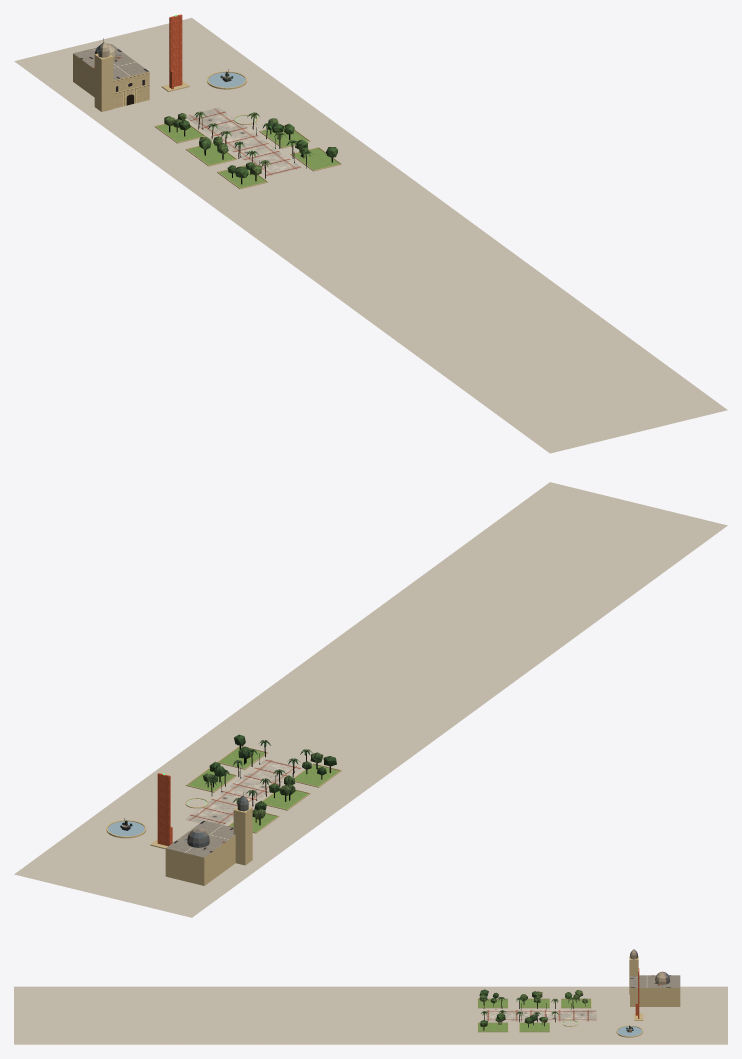
The model's file is lugar-monterrey.glb.
3 views of the same model, one above another, from view 1: azimuth 30°, elevation 25°; view 2: azimuth 150°, elevation 25°; view 3: azimuth 270°, elevation 25° (orthographic). The views are drawn at different scales.
Parts seen in each view (by area): view 1: luzG-cerca, luzS-pista, luzE, vert-cerca; view 2: luzG-cerca, luzS-pista, luzE, vert-cerca; view 3: luzG-cerca, luzS-pista, luzE, vert-cerca, planoE.
Part boxes in pixels (bbox=[...]): luzG-cerca: bbox=[14, 18, 727, 453]; luzS-pista: bbox=[154, 14, 341, 189]; luzE: bbox=[73, 44, 149, 111]; vert-cerca: bbox=[94, 38, 337, 184]; luzG-cerca: bbox=[14, 482, 727, 917]; luzS-pista: bbox=[106, 745, 341, 849]; luzE: bbox=[165, 807, 252, 885]; vert-cerca: bbox=[120, 734, 336, 847]; luzG-cerca: bbox=[14, 986, 727, 1044]; luzS-pista: bbox=[477, 968, 643, 1037]; luzE: bbox=[629, 956, 680, 1006]; vert-cerca: bbox=[479, 949, 669, 1032]; planoE: bbox=[563, 969, 642, 1036].
Size of the model in its own units: 92 by 36.15 by 480.
13 materials, 9 textured.
